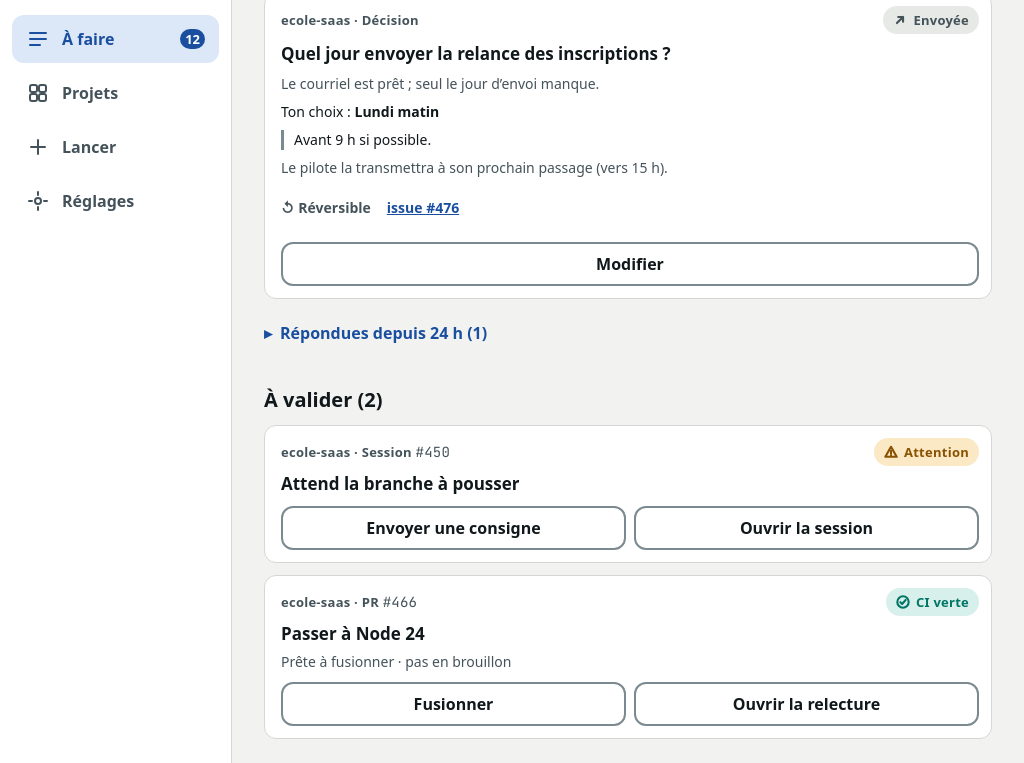
Test: À faire par toi › fusionner passe par une feuille de confirmation, puis retire la PR
The width and height of the screenshot is (1024, 763).
(page scrolled)
Step 1. Click the button "Fusionner" → (454, 704), box x1=281 y1=682 x2=626 y2=726
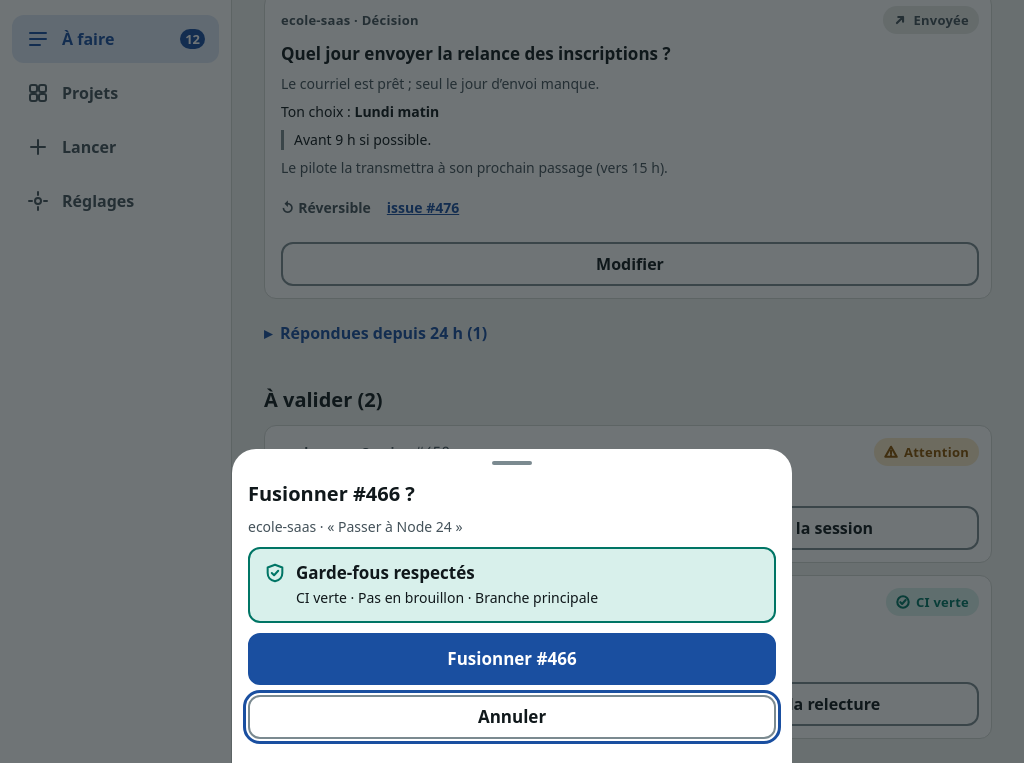
Step 2. Click the button "Fusionner #466" → (512, 659), box x1=248 y1=633 x2=776 y2=685
(page scrolled)
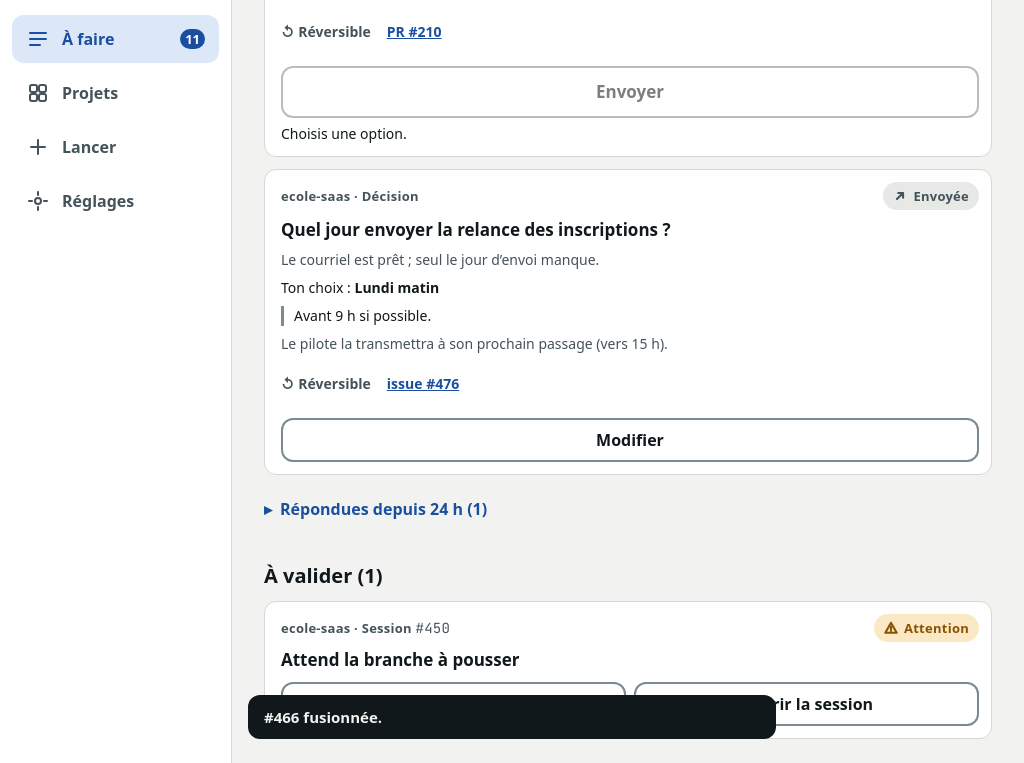
Expected: the dialog is gone
Expected: the heading "Passer à Node 24" is gone
Expected: the text "#466 fusionnée." is shown, x1=264 y1=707 x2=382 y2=727
